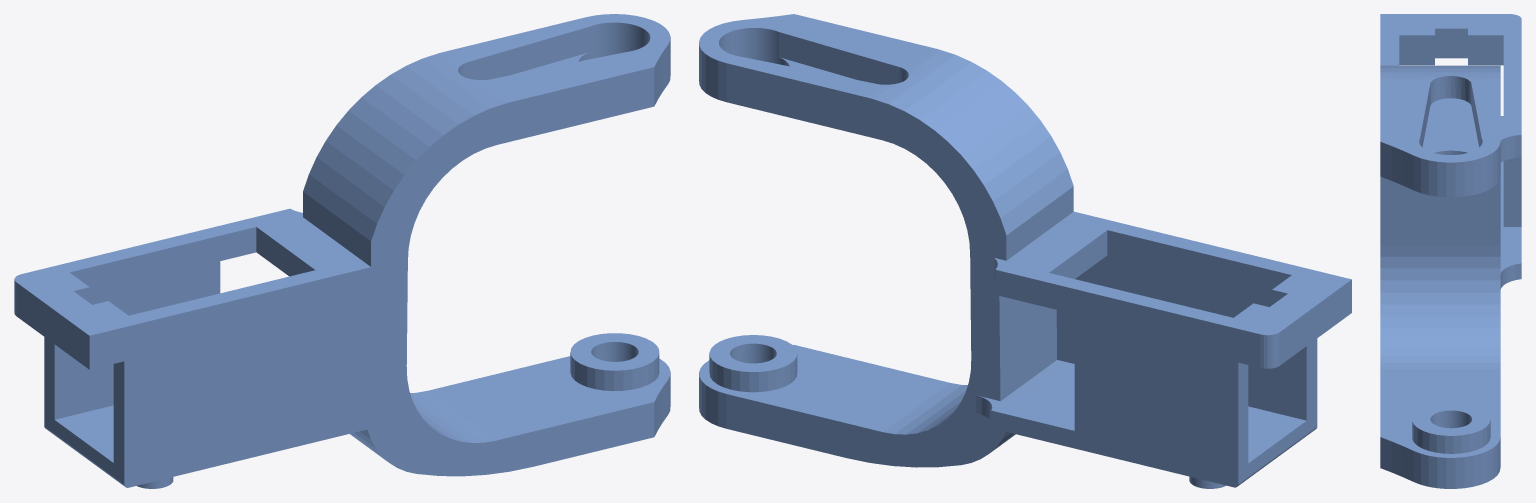
Rendered from shell0_Mirrored_1.gltf.
3 renders of one model, left to right at view 1: azimuth 30°, elevation 25°; view 2: azimuth 150°, elevation 25°; view 3: azimuth 270°, elevation 25°, orthographic. The views are drawn at different scales.
Visible parts, largest first — view 1: mesh4948, mesh4801, mesh4827, mesh4834, mesh4968, mesh4905, mesh4800, mesh4873, mesh4802, mesh4969, mesh4901, mesh4835 (+14 smaller); view 2: mesh4809, mesh4949, mesh4826, mesh4834, mesh4968, mesh4905, mesh4819, mesh4822, mesh4800, mesh4902, mesh4802, mesh4969 (+16 smaller); view 3: mesh4935, mesh4968, mesh4834, mesh4905, mesh4900, mesh4937, mesh4938, mesh4939, mesh4940, mesh4941, mesh4969, mesh4936 (+44 smaller).
Part boxes in pixels (x1,y1,x2,y2): mesh4948: (124,67,654,487); mesh4801: (89,276,364,470); mesh4827: (54,227,256,419); mesh4834: (14,208,370,335); mesh4968: (428,356,670,440); mesh4905: (448,14,670,100); mesh4800: (44,337,124,483); mesh4873: (470,27,589,79); mesh4802: (16,282,89,369); mesh4969: (570,333,659,370); mesh4901: (578,22,650,61); mesh4835: (303,192,370,266); mesh4809: (991,269,1260,487); mesh4949: (726,63,1006,467); mesh4826: (1056,230,1306,420); mesh4834: (994,211,1351,335); mesh4968: (699,345,949,431); mesh4905: (699,14,930,96); mesh4819: (979,362,1306,462); mesh4822: (999,296,1056,400); mesh4800: (1238,338,1317,483); mesh4902: (779,32,897,84); mesh4802: (1279,279,1351,365); mesh4969: (709,335,797,371); mesh4935: (1380,176,1500,245); mesh4968: (1380,369,1500,457); mesh4834: (1380,14,1521,139); mesh4905: (1380,82,1500,162); mesh4900: (1422,98,1478,152); mesh4937: (1380,256,1500,268); mesh4938: (1380,268,1500,280); mesh4939: (1380,280,1500,292); mesh4940: (1380,292,1500,304); mesh4941: (1380,304,1500,316); mesh4969: (1412,402,1490,435); mesh4936: (1380,245,1500,256).
Bounding box in the file's own units: 0.0755 × 0.0436 × 0.0171.
